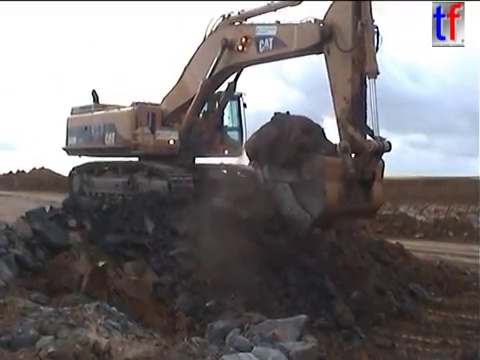excavator: (57, 1, 396, 240)
